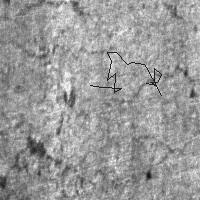crazing: (2, 129, 192, 194), (2, 1, 121, 58), (101, 62, 199, 106), (90, 52, 161, 95)
